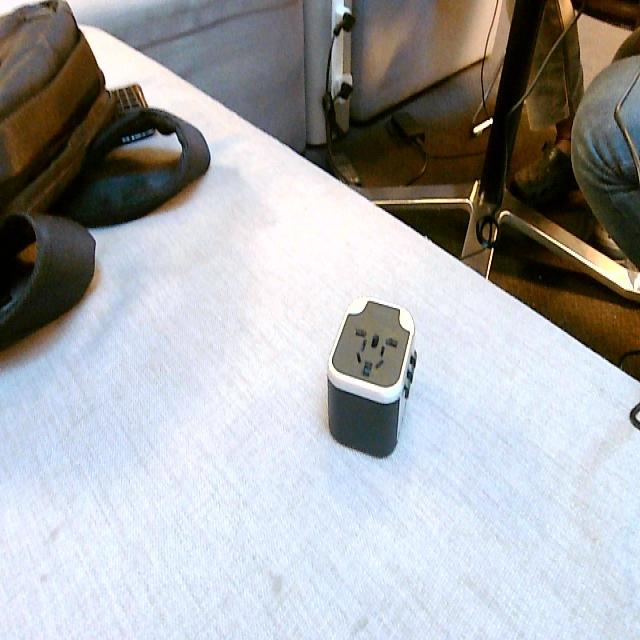adapter: (325, 295, 417, 457)
